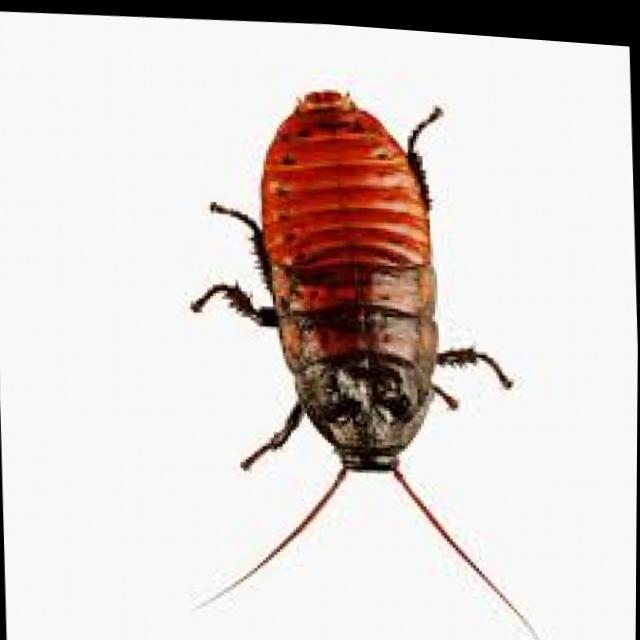Cockroach: (156, 49, 555, 640)
